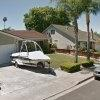Boat: (9, 39, 56, 72)
